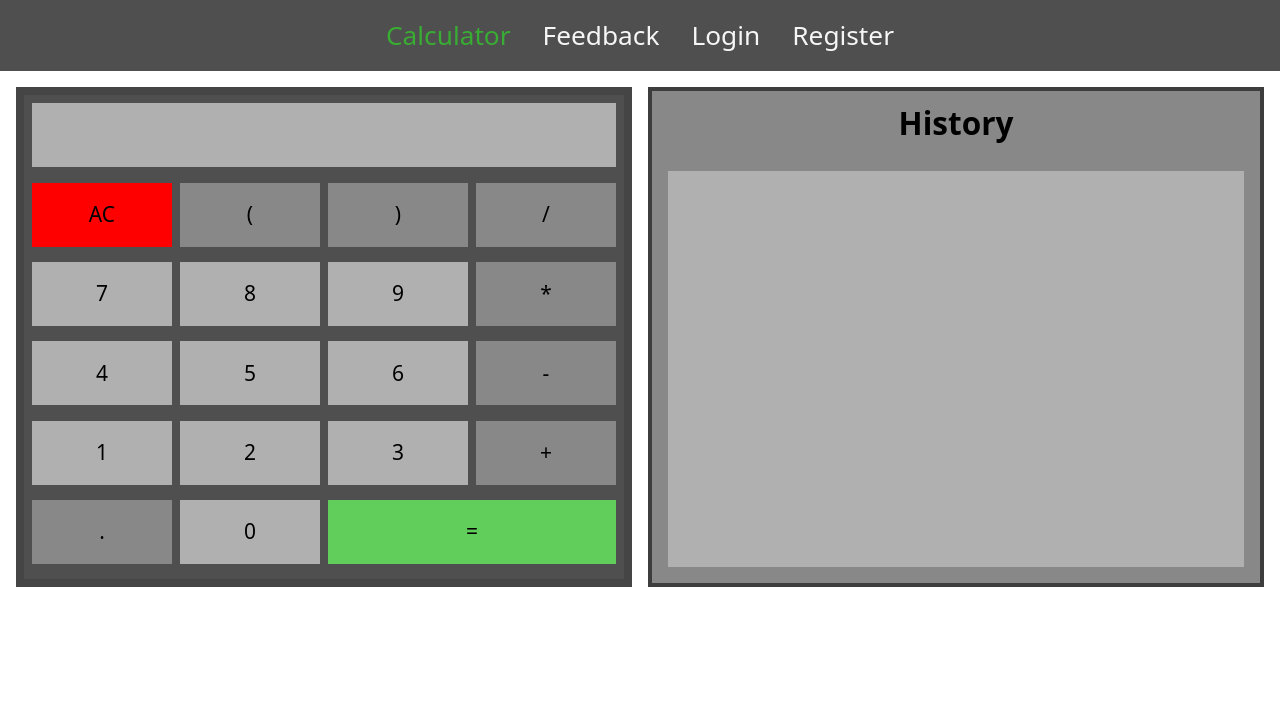
Scenario: Test submitting feedbacks through the feedback view › Can navigate to feedback page from home page
The image size is (1280, 720).
Click the link to "/feedback" at (602, 36), box 543,16 -> 660,55
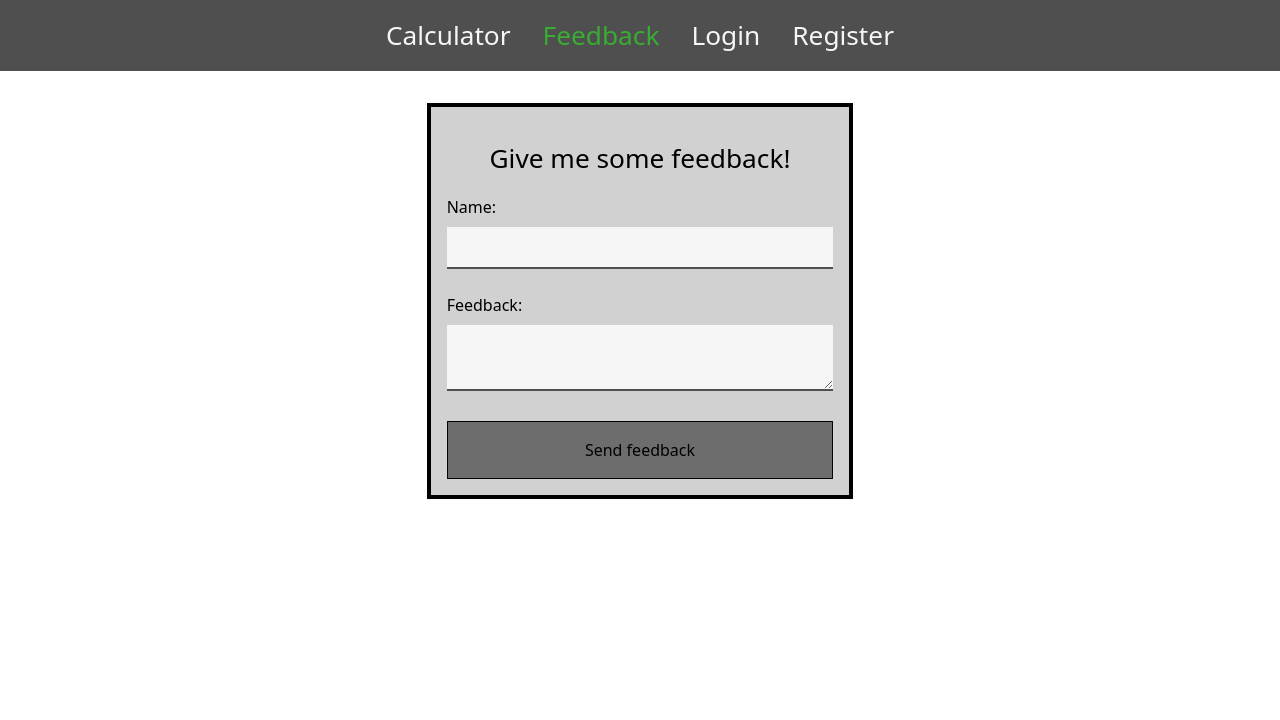
Check: the form is shown, box 447,195 -> 834,479
